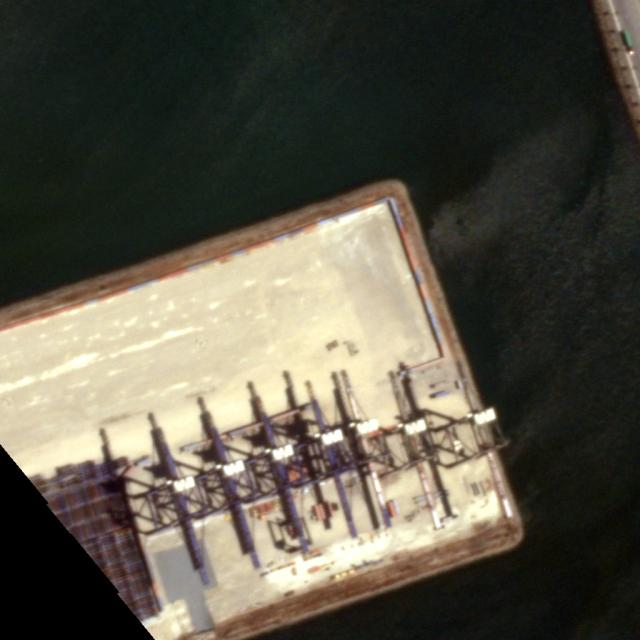crane: (149, 378, 461, 563)
